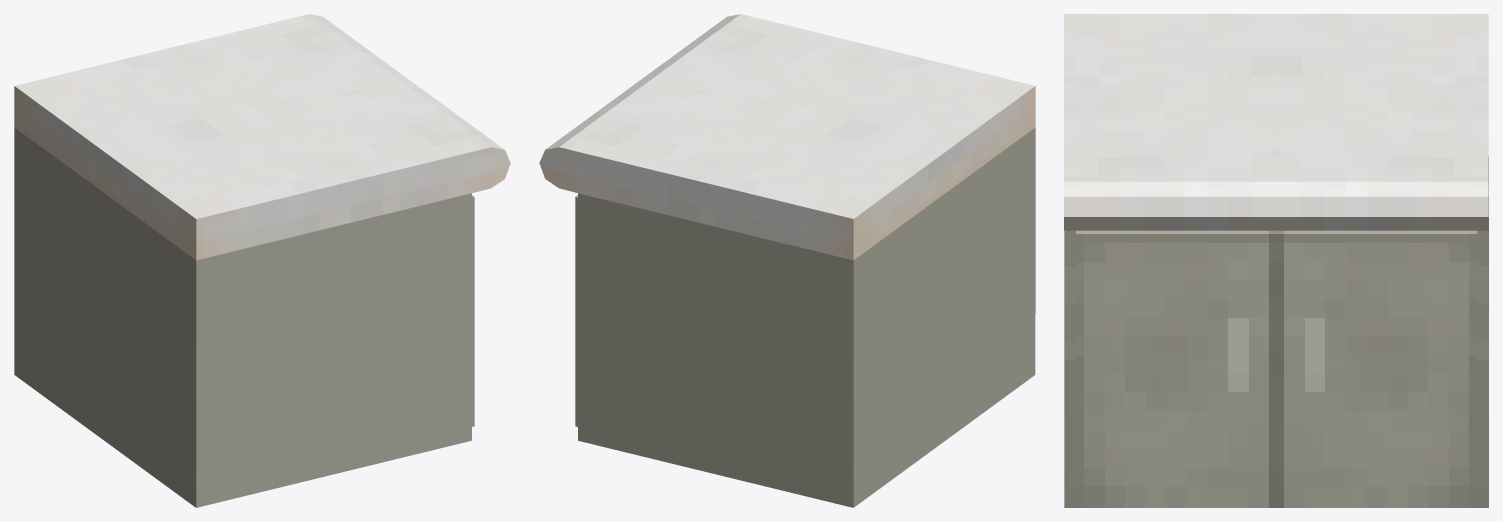
Rendered from Counter1.glb.
3 renders of one model, left to right at view 1: azimuth 30°, elevation 25°; view 2: azimuth 150°, elevation 25°; view 3: azimuth 270°, elevation 25°, orthographic. The views are drawn at different scales.
Visible parts, largest first — view 1: baseCounter.007; view 2: baseCounter.007; view 3: baseCounter.007.
Part boxes in pixels (box(x1,y1,x2,y2)): baseCounter.007: box(14, 14, 510, 507); baseCounter.007: box(539, 14, 1035, 507); baseCounter.007: box(1064, 14, 1488, 507).
Size of the model in its own units: 3.99 by 3.5 by 4.
Materials: 2 (2 with a texture image).
